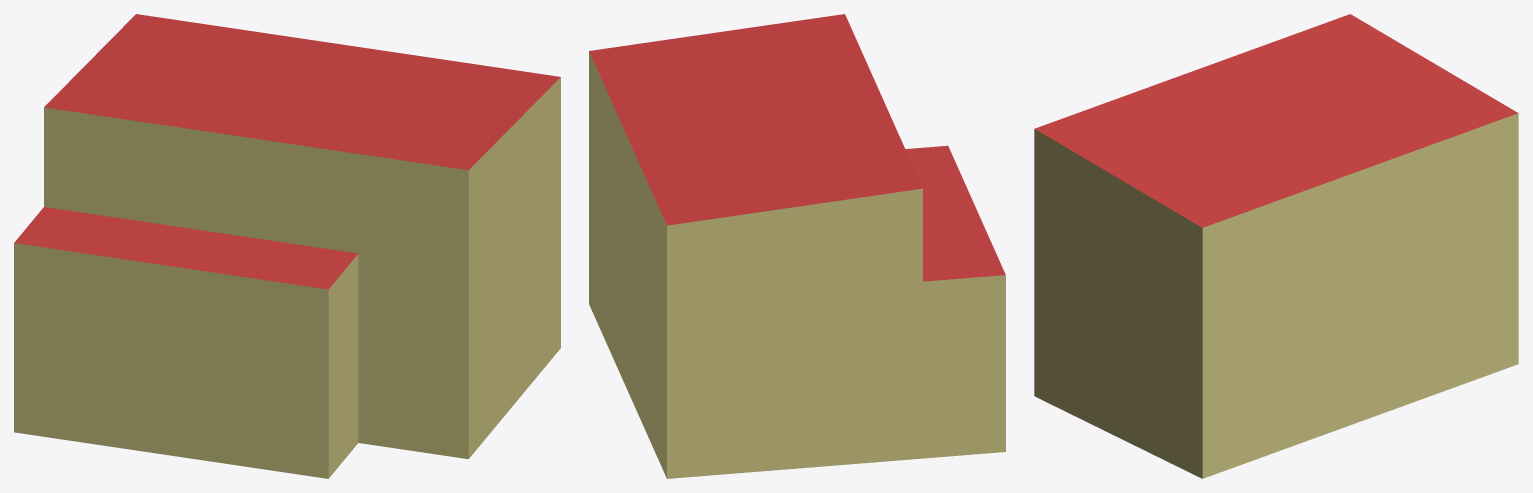
The picture shows the model from 3 angles, left to right: view 1: azimuth 30°, elevation 25°; view 2: azimuth 150°, elevation 25°; view 3: azimuth 270°, elevation 25°; orthographic projection. The views are drawn at different scales.
Bounding box in the file's own units: 16.17 × 14.75 × 8.99.
